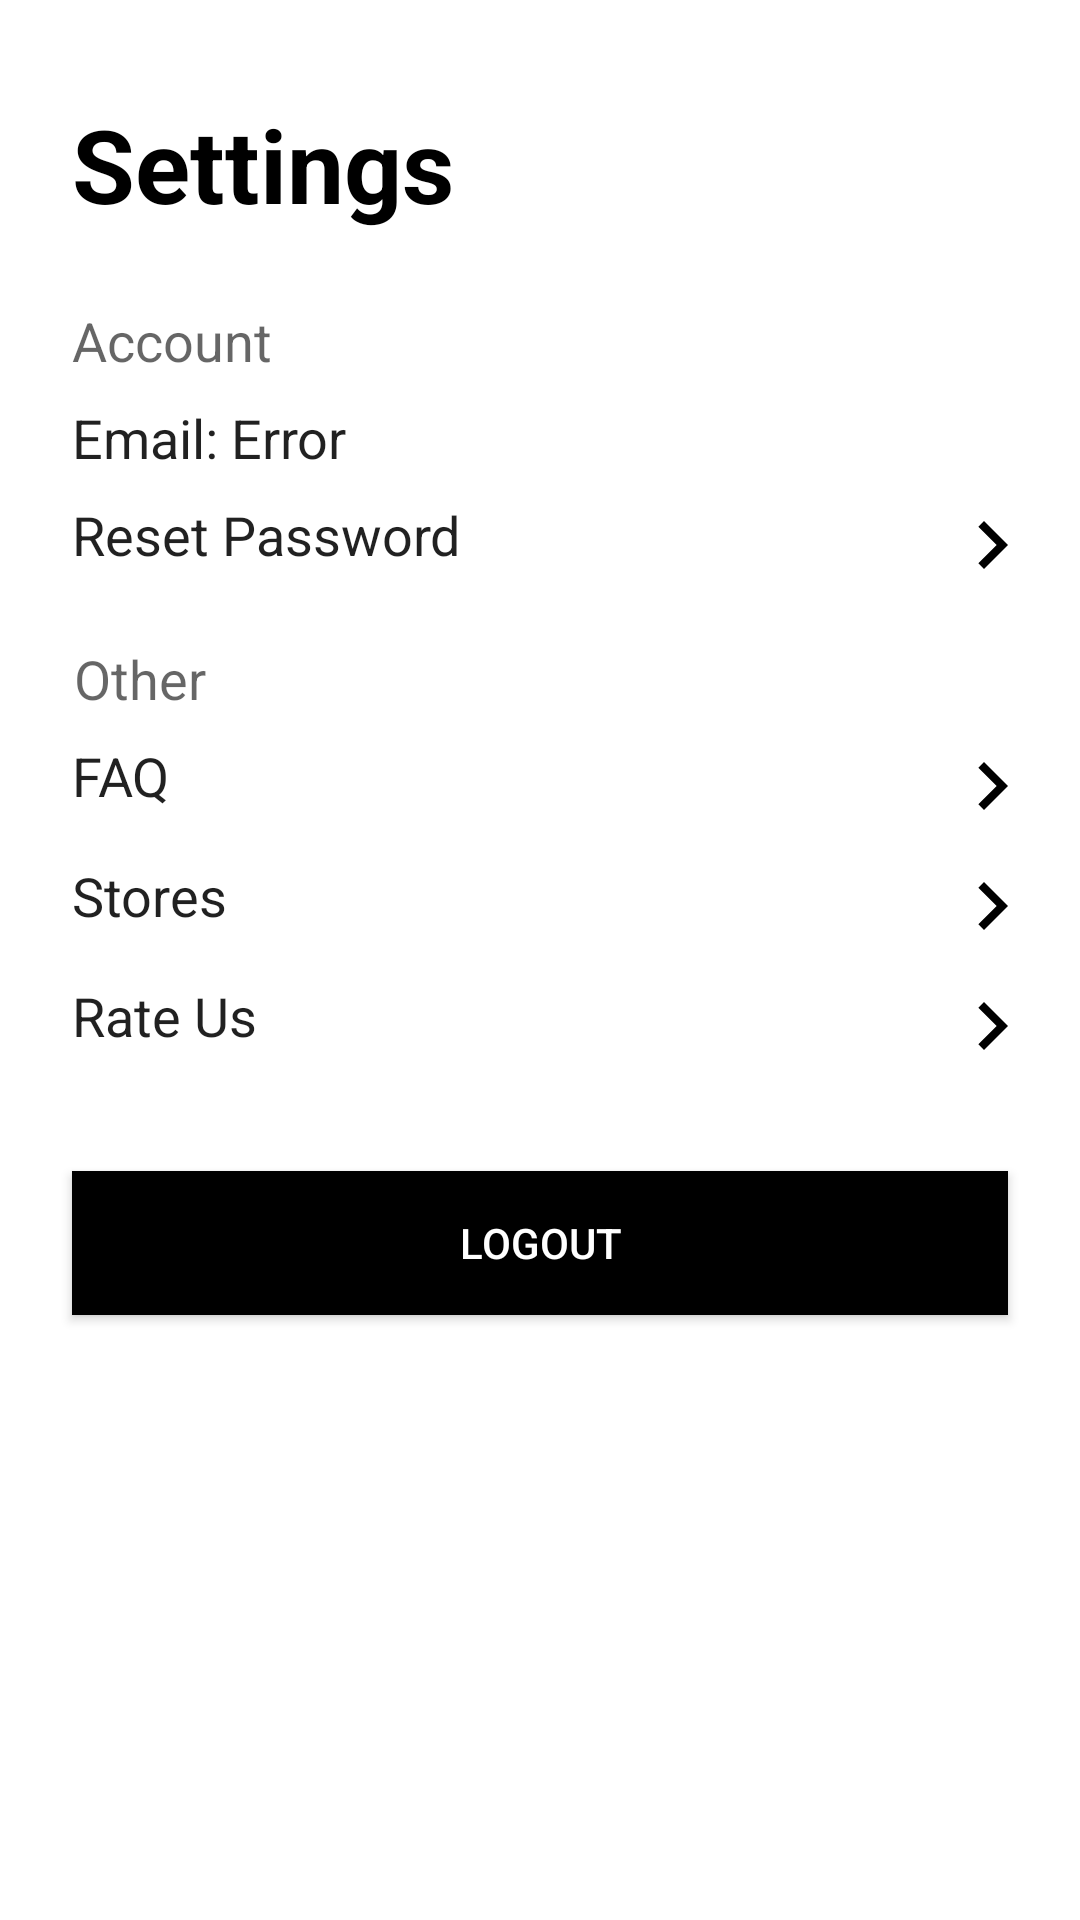

Screen size 1080 × 1920. Icon name, then its center in pixels as (x,y):
keyboard arrow right: (993,545), (993,786), (993,906), (993,1026)
